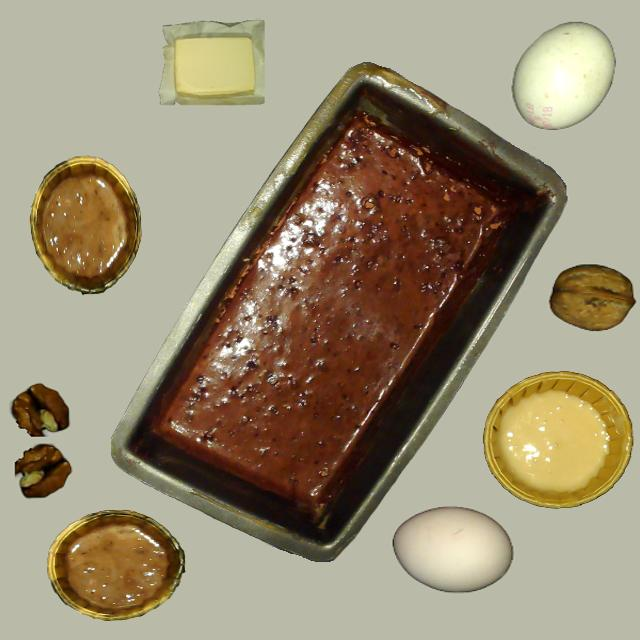Walnut: (549, 264, 633, 332)
